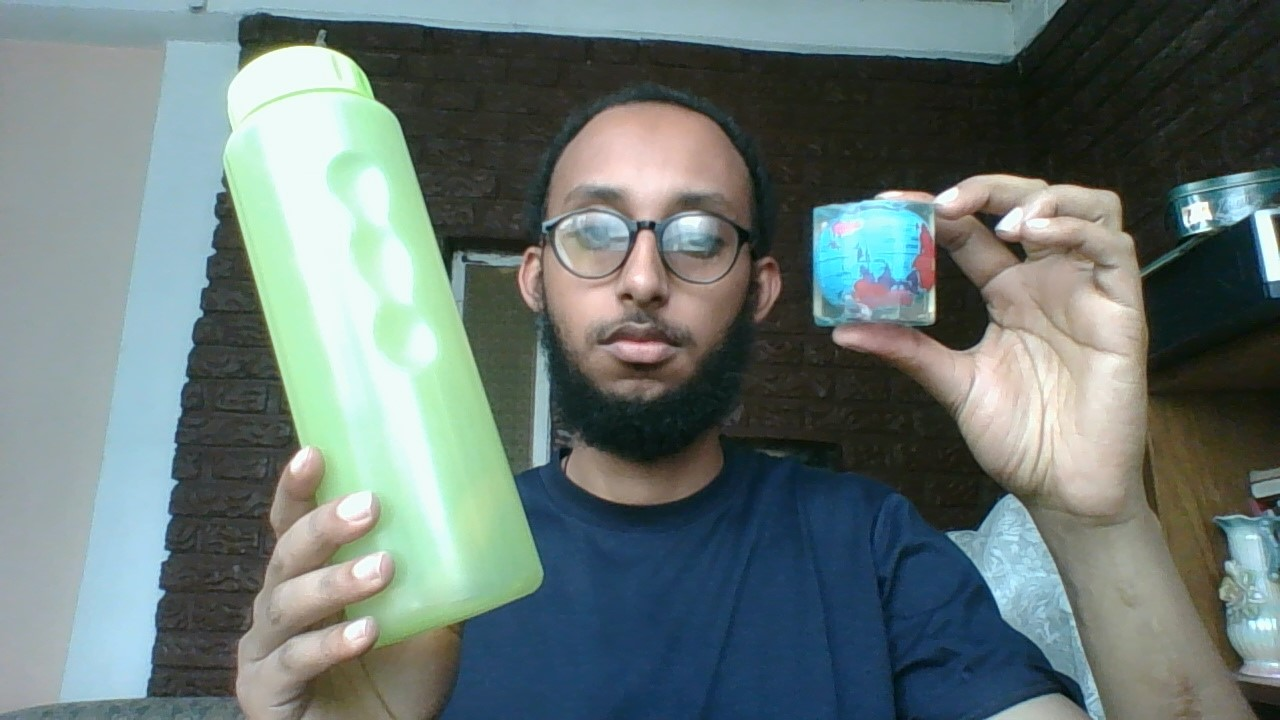Water_bottle: (214, 39, 551, 661)
world_globe: (803, 186, 943, 337)
